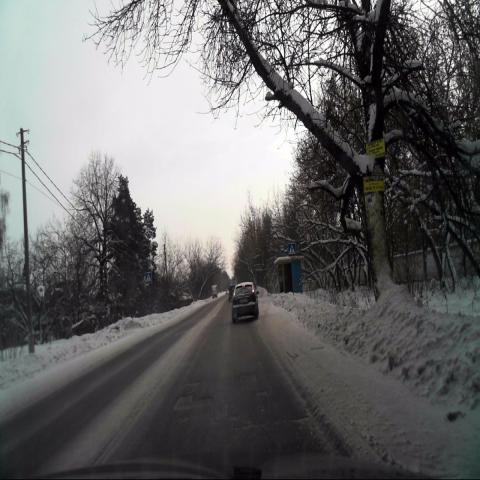5_19_1: (288, 243, 296, 255), (145, 271, 152, 283)
